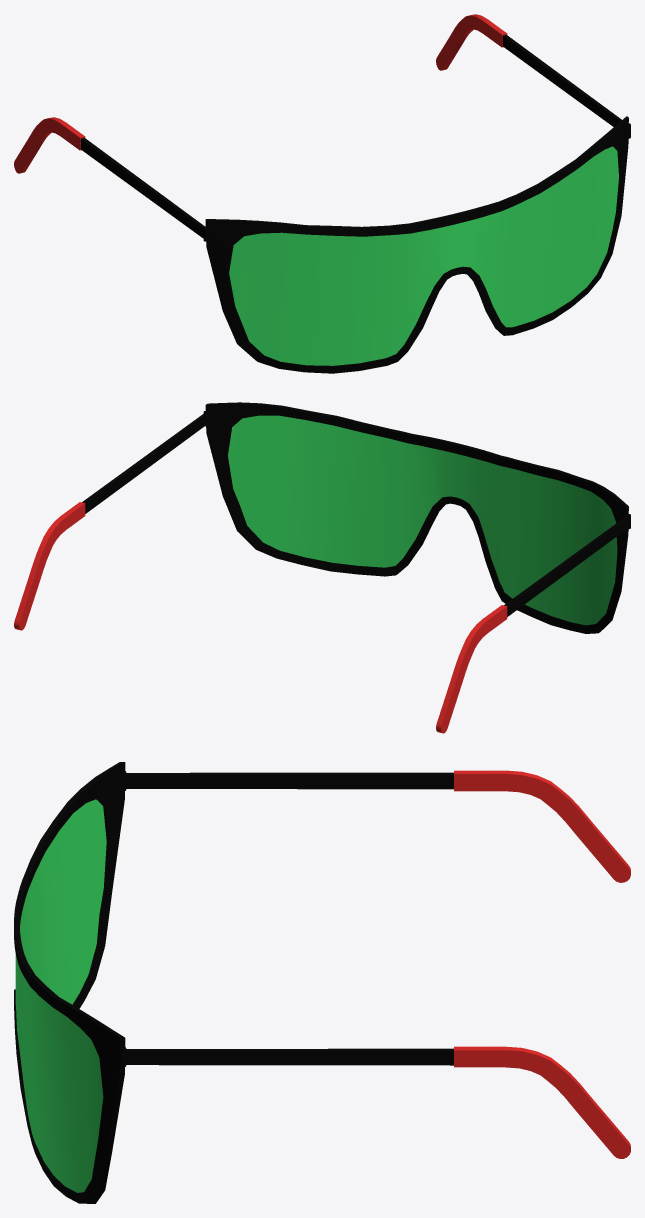
The model's file is green-glasses.glb.
3 renders of one model, top to bottom at view 1: azimuth 30°, elevation 25°; view 2: azimuth 150°, elevation 25°; view 3: azimuth 270°, elevation 25°, orthographic. The views are drawn at different scales.
Visible parts, largest first — view 1: glasses24.001; view 2: glasses24.001; view 3: glasses24.001.
Boxes of the visible parts, <box> form: glasses24.001: <box>14,14,630,373</box>; glasses24.001: <box>14,402,630,733</box>; glasses24.001: <box>14,762,630,1203</box>.
Size of the model in its own units: 2.09 by 0.7497 by 1.95.
